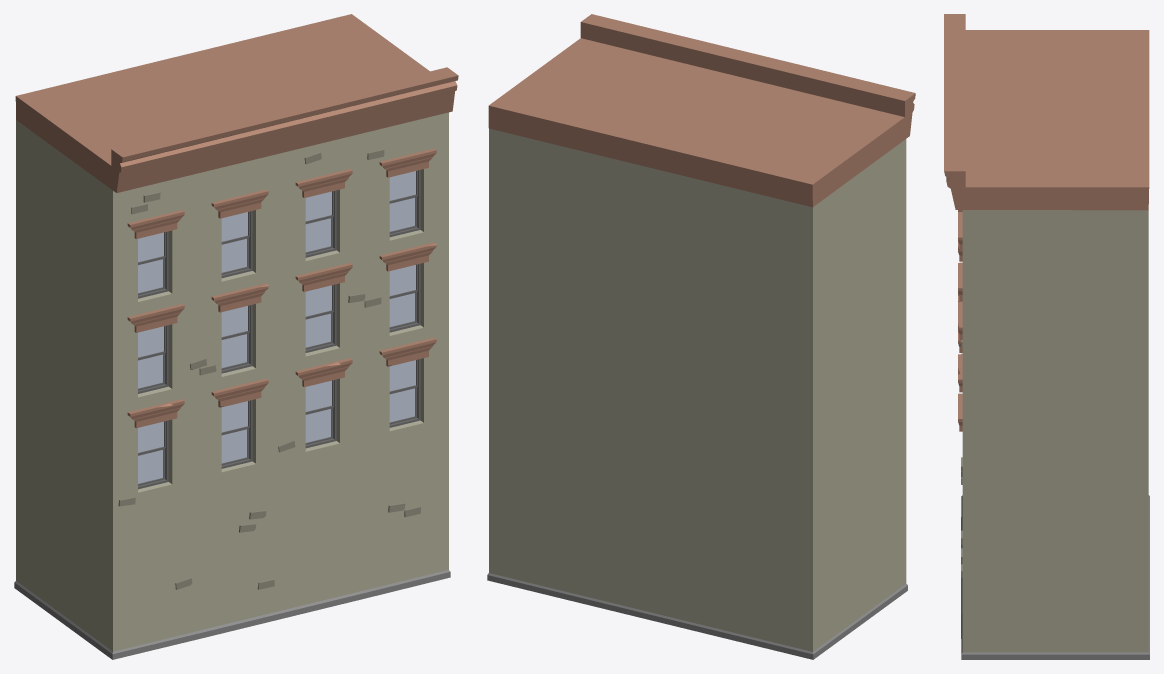
Rendered from Gb Blank.glb.
The picture shows the model from 3 angles, left to right: view 1: azimuth 30°, elevation 25°; view 2: azimuth 150°, elevation 25°; view 3: azimuth 270°, elevation 25°; orthographic projection. The views are drawn at different scales.
Visible parts, largest first — view 1: GBBlank; view 2: GBBlank; view 3: GBBlank.
Part boxes in pixels (x1=…): GBBlank: x1=14, y1=14, x2=458, y2=659; GBBlank: x1=487, y1=14, x2=915, y2=659; GBBlank: x1=944, y1=14, x2=1149, y2=659.
Size of the model in its own units: 2.42 by 3.48 by 1.33.
